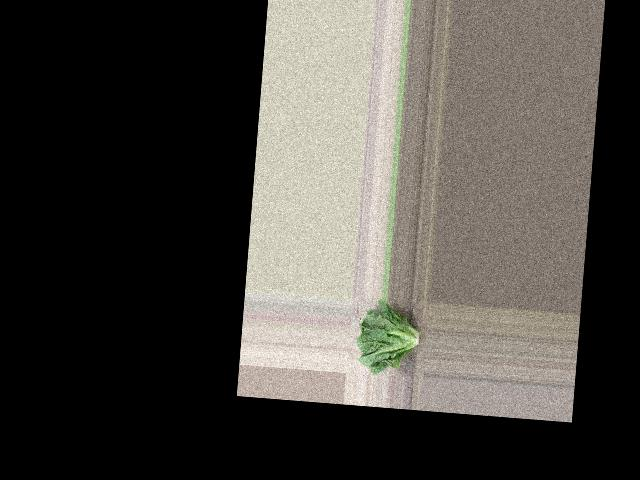lettuce: (352, 298, 427, 375)
